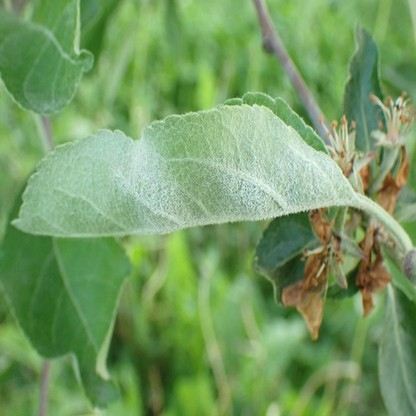powder: (201, 152, 349, 220), (108, 138, 189, 230)
